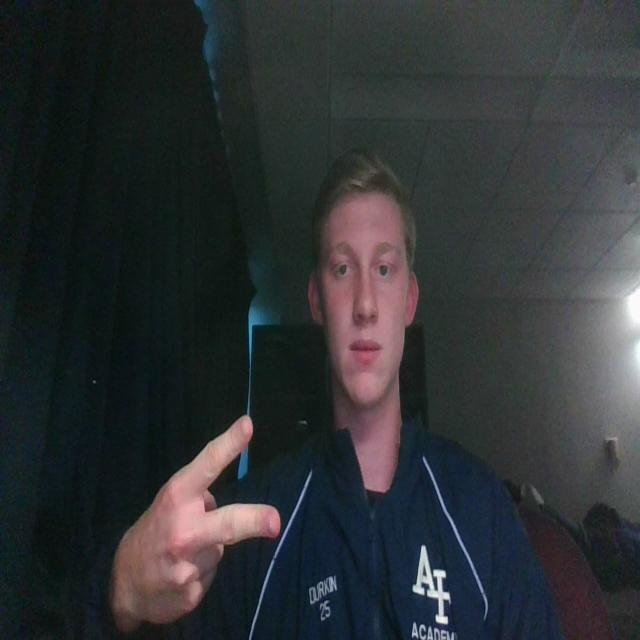scissors: (112, 407, 286, 633)
